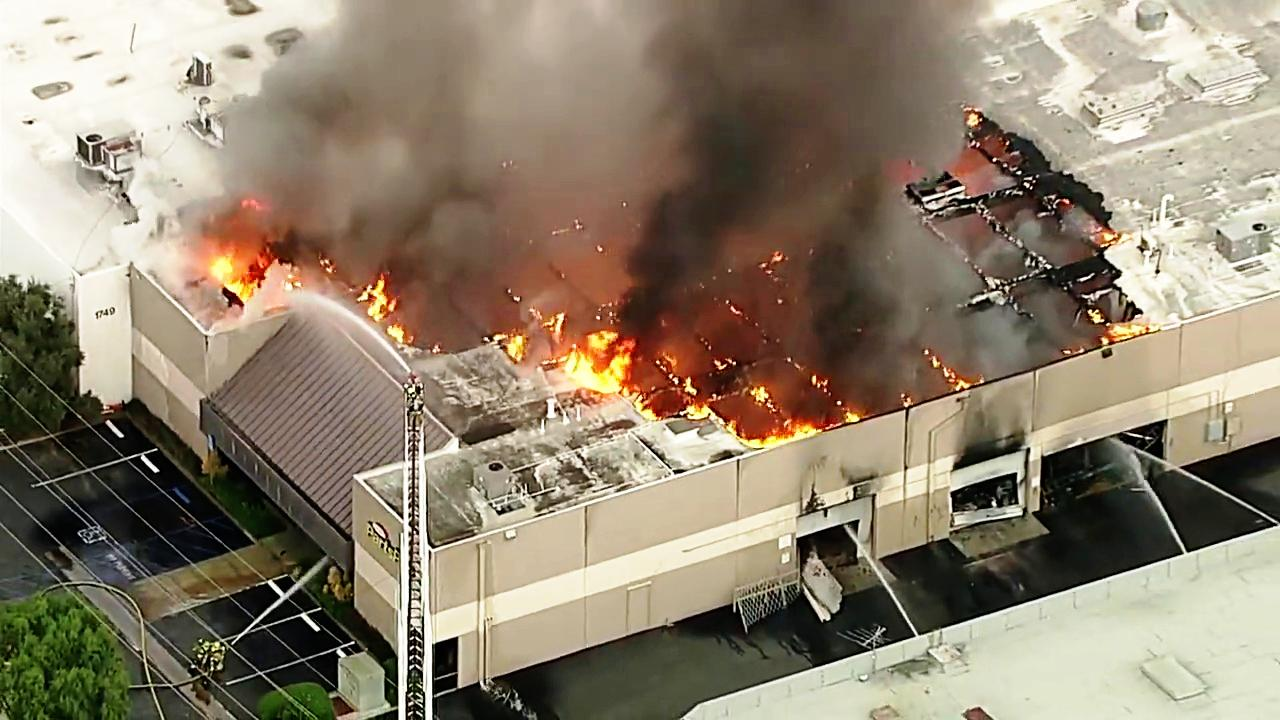fire: (562, 342, 645, 404), (641, 292, 642, 295)
